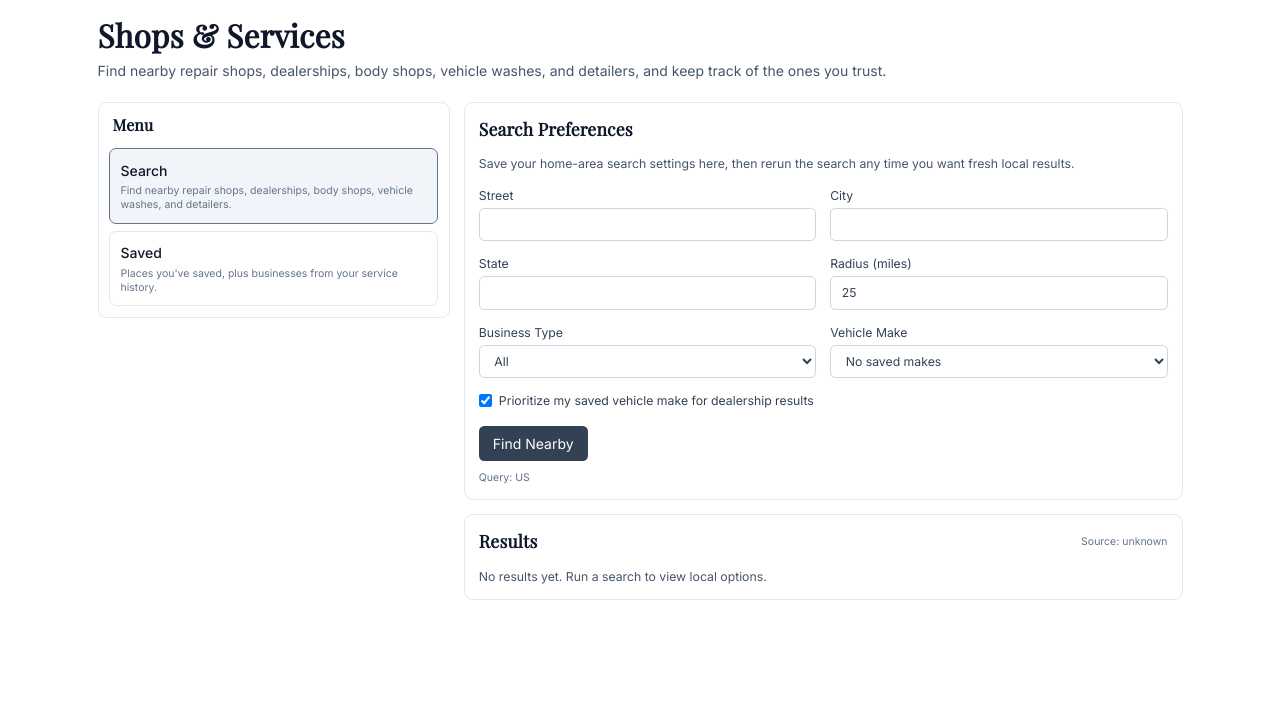
Test: ServiceProviders › shows validation error when required address fields are absent
The width and height of the screenshot is (1280, 720).
Expected: the heading "Shops & Services" is shown, [98, 14, 345, 56]
Step 1. Click the button "Find Nearby" → (533, 443), box [479, 426, 588, 461]
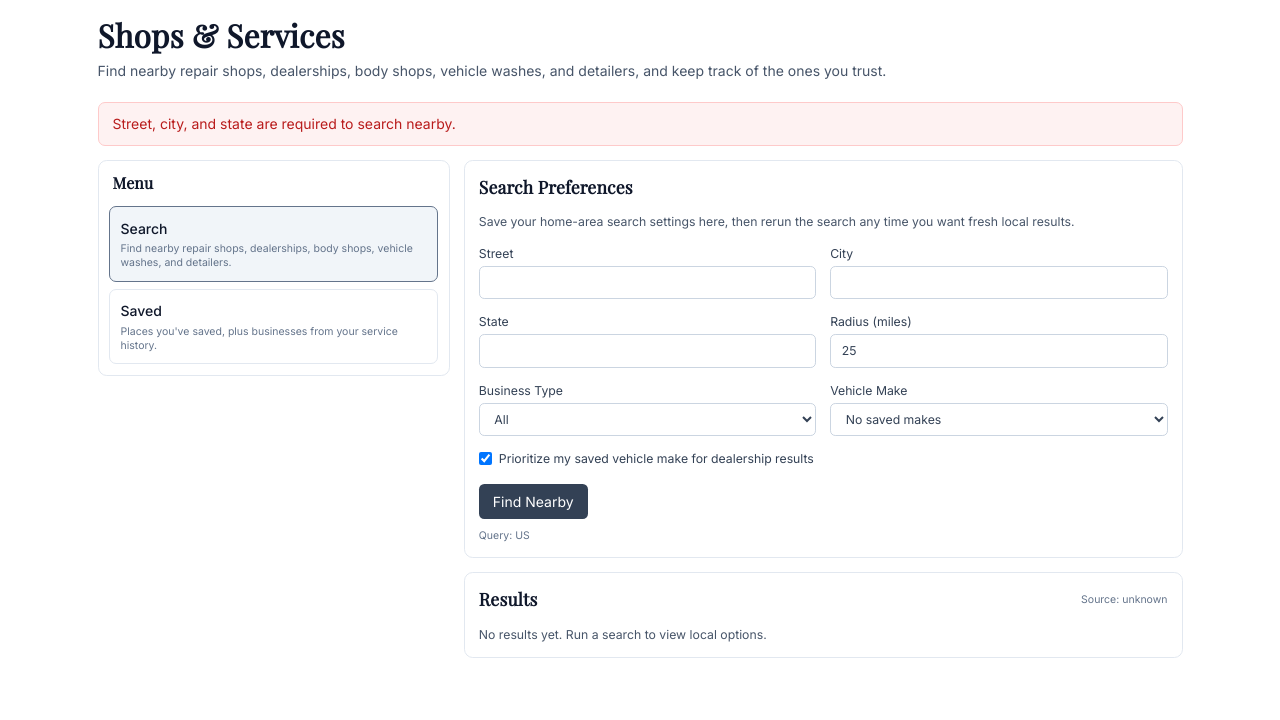
Expected: the text "Street, city, and state are required to search nearby." is shown, [98, 102, 1182, 146]
